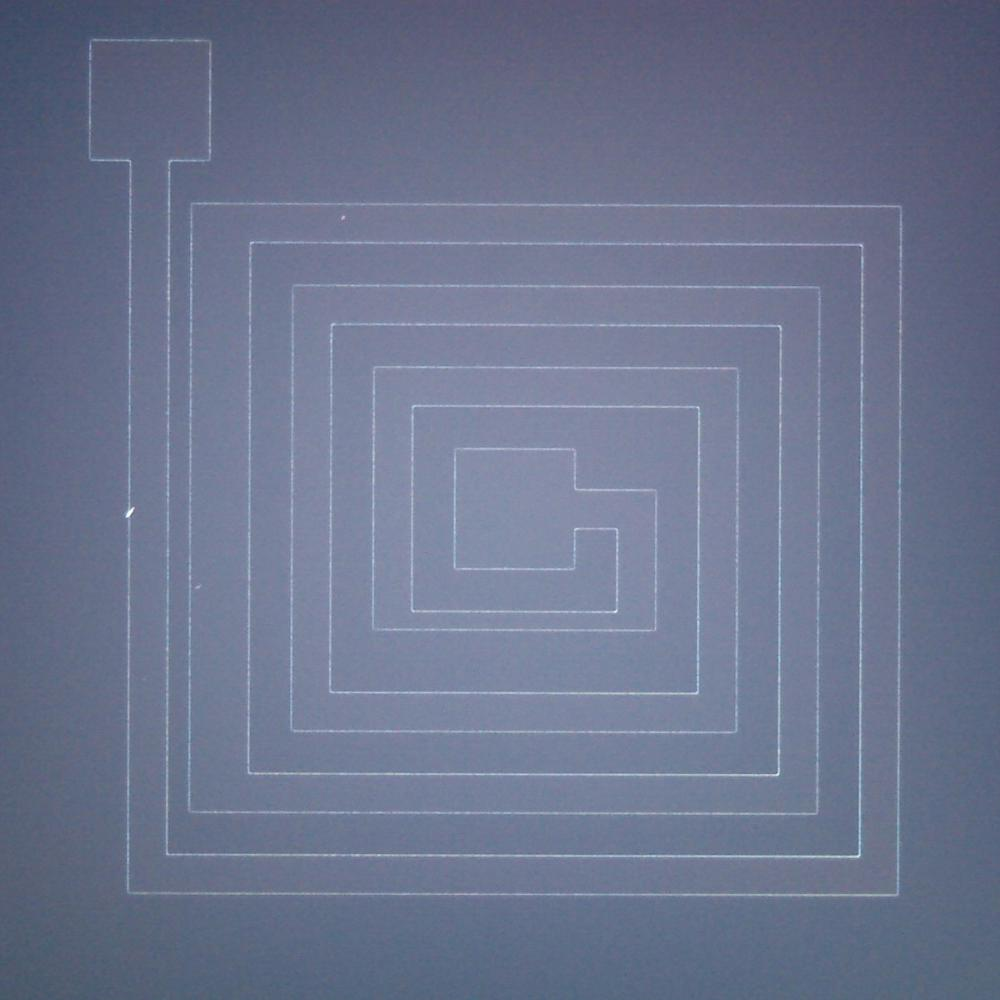dot: (195, 583, 203, 590), (341, 215, 346, 220)
